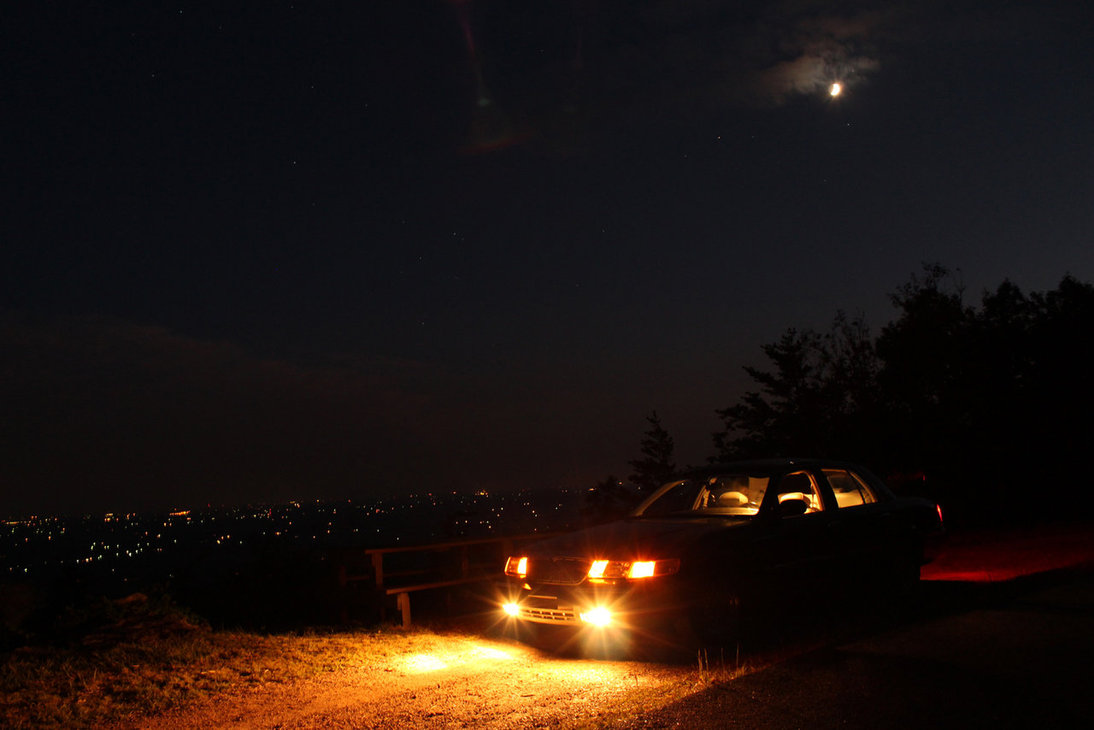car: (490, 450, 958, 668)
